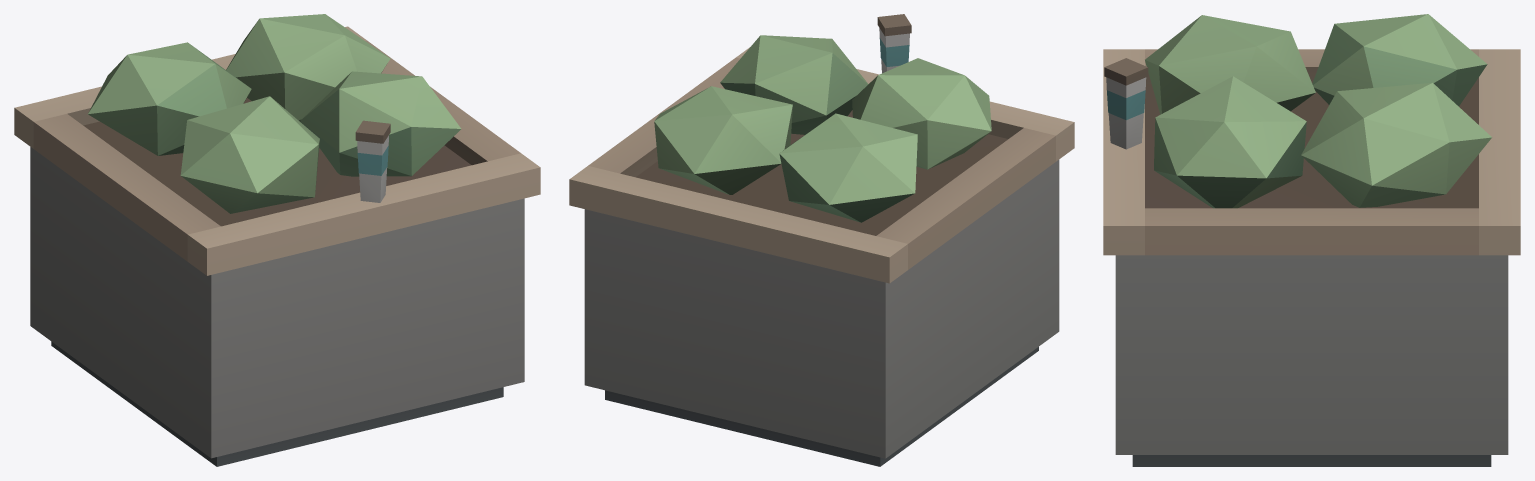
File: planter.lod1.glb
3 renders of one model, left to right at view 1: azimuth 30°, elevation 25°; view 2: azimuth 150°, elevation 25°; view 3: azimuth 270°, elevation 25°, orthographic. The views are drawn at different scales.
Bounding box in the file's own units: 1 × 0.87 × 1.
